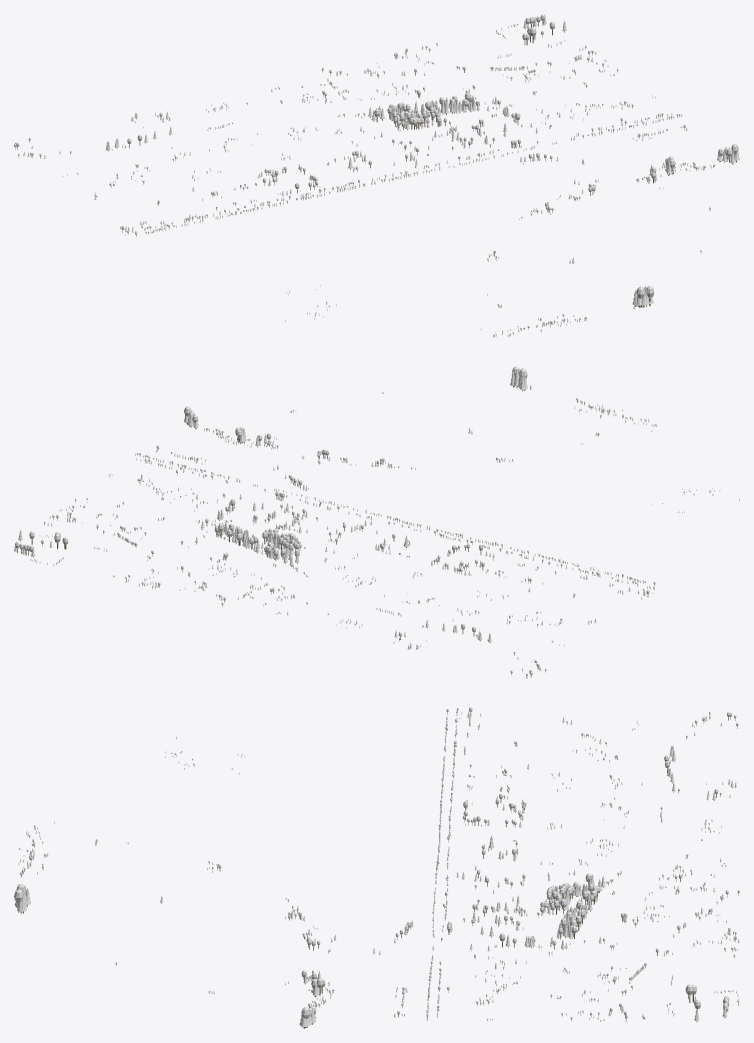
File: stromy.glb
3 renders of one model, top to bottom at view 1: azimuth 30°, elevation 25°; view 2: azimuth 150°, elevation 25°; view 3: azimuth 270°, elevation 25°, orthographic. The views are drawn at different scales.
Parts seen in each view (by area): view 1: Stromy_Listnate_02_03, Stromy_Ihlicnate_02_03; view 2: Stromy_Ihlicnate_02_03, Stromy_Listnate_02_03; view 3: Stromy_Listnate_02_03, Stromy_Ihlicnate_02_03.
Part boxes in pixels (x1,y1,x2,y2): Stromy_Listnate_02_03: (14, 14, 738, 337); Stromy_Ihlicnate_02_03: (23, 14, 739, 336); Stromy_Ihlicnate_02_03: (14, 368, 739, 671); Stromy_Listnate_02_03: (15, 366, 714, 678); Stromy_Listnate_02_03: (14, 707, 739, 1027); Stromy_Ihlicnate_02_03: (14, 711, 739, 1028).
Bounding box in the file's own units: 1005 × 41.59 × 1008.
